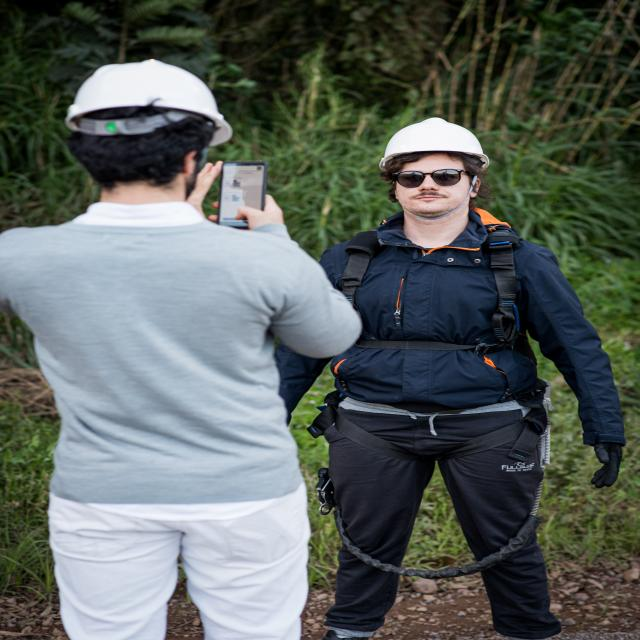capacete: (63, 58, 235, 150), (378, 114, 494, 178)
corda de vida: (308, 218, 560, 482)
luva: (588, 433, 620, 489)
